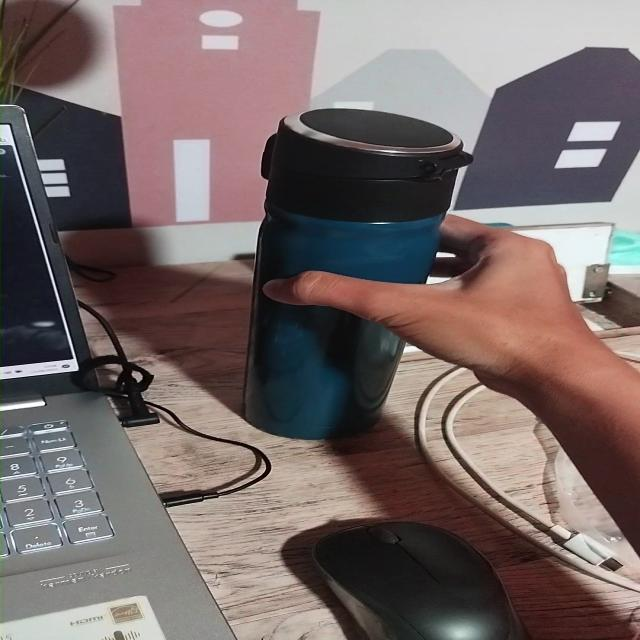bottle: (239, 109, 476, 441)
